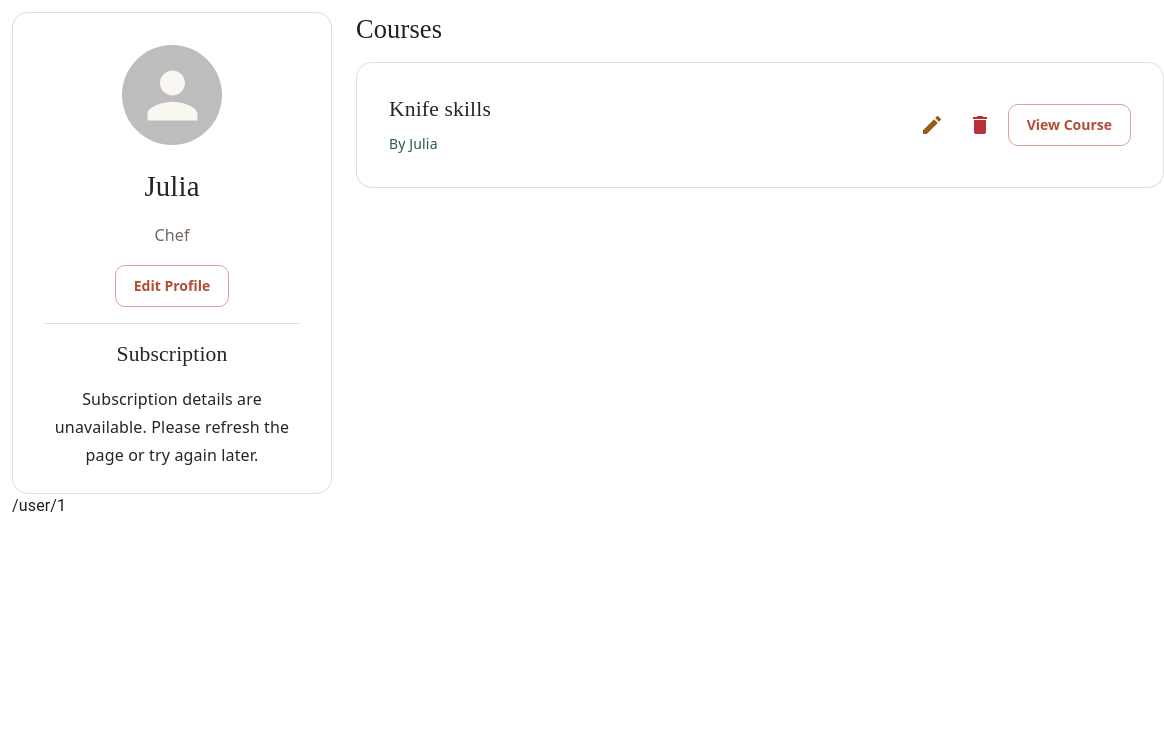
Test: own profile offers editing and associated courses
Expected: the heading "Julia" is shown, [144,169,200,205]
Click the button "Edit Profile" at [172, 286], box [115,265,229,307]
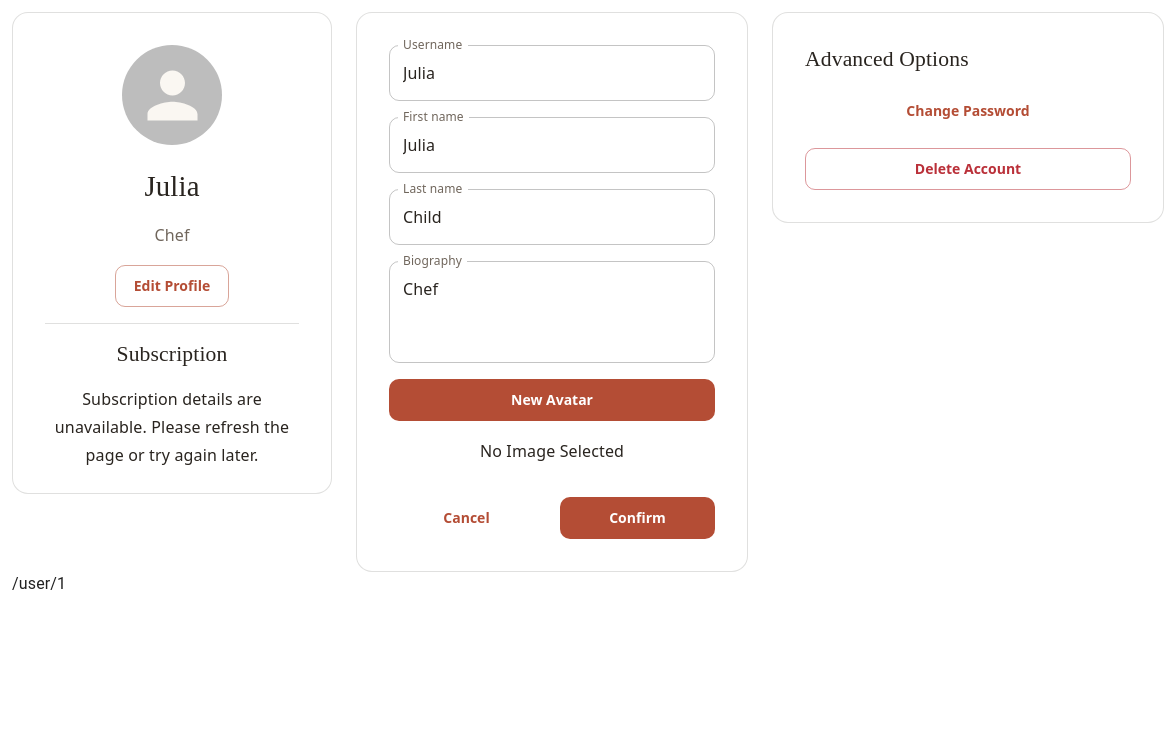
Expected: the field labelled "Username" holds "Julia", [389,45,715,101]
